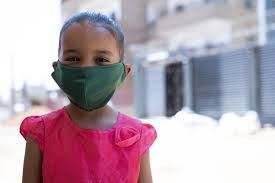with-mask: (45, 14, 137, 114)
